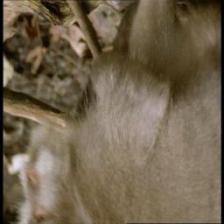monkey: (8, 129, 66, 223)
